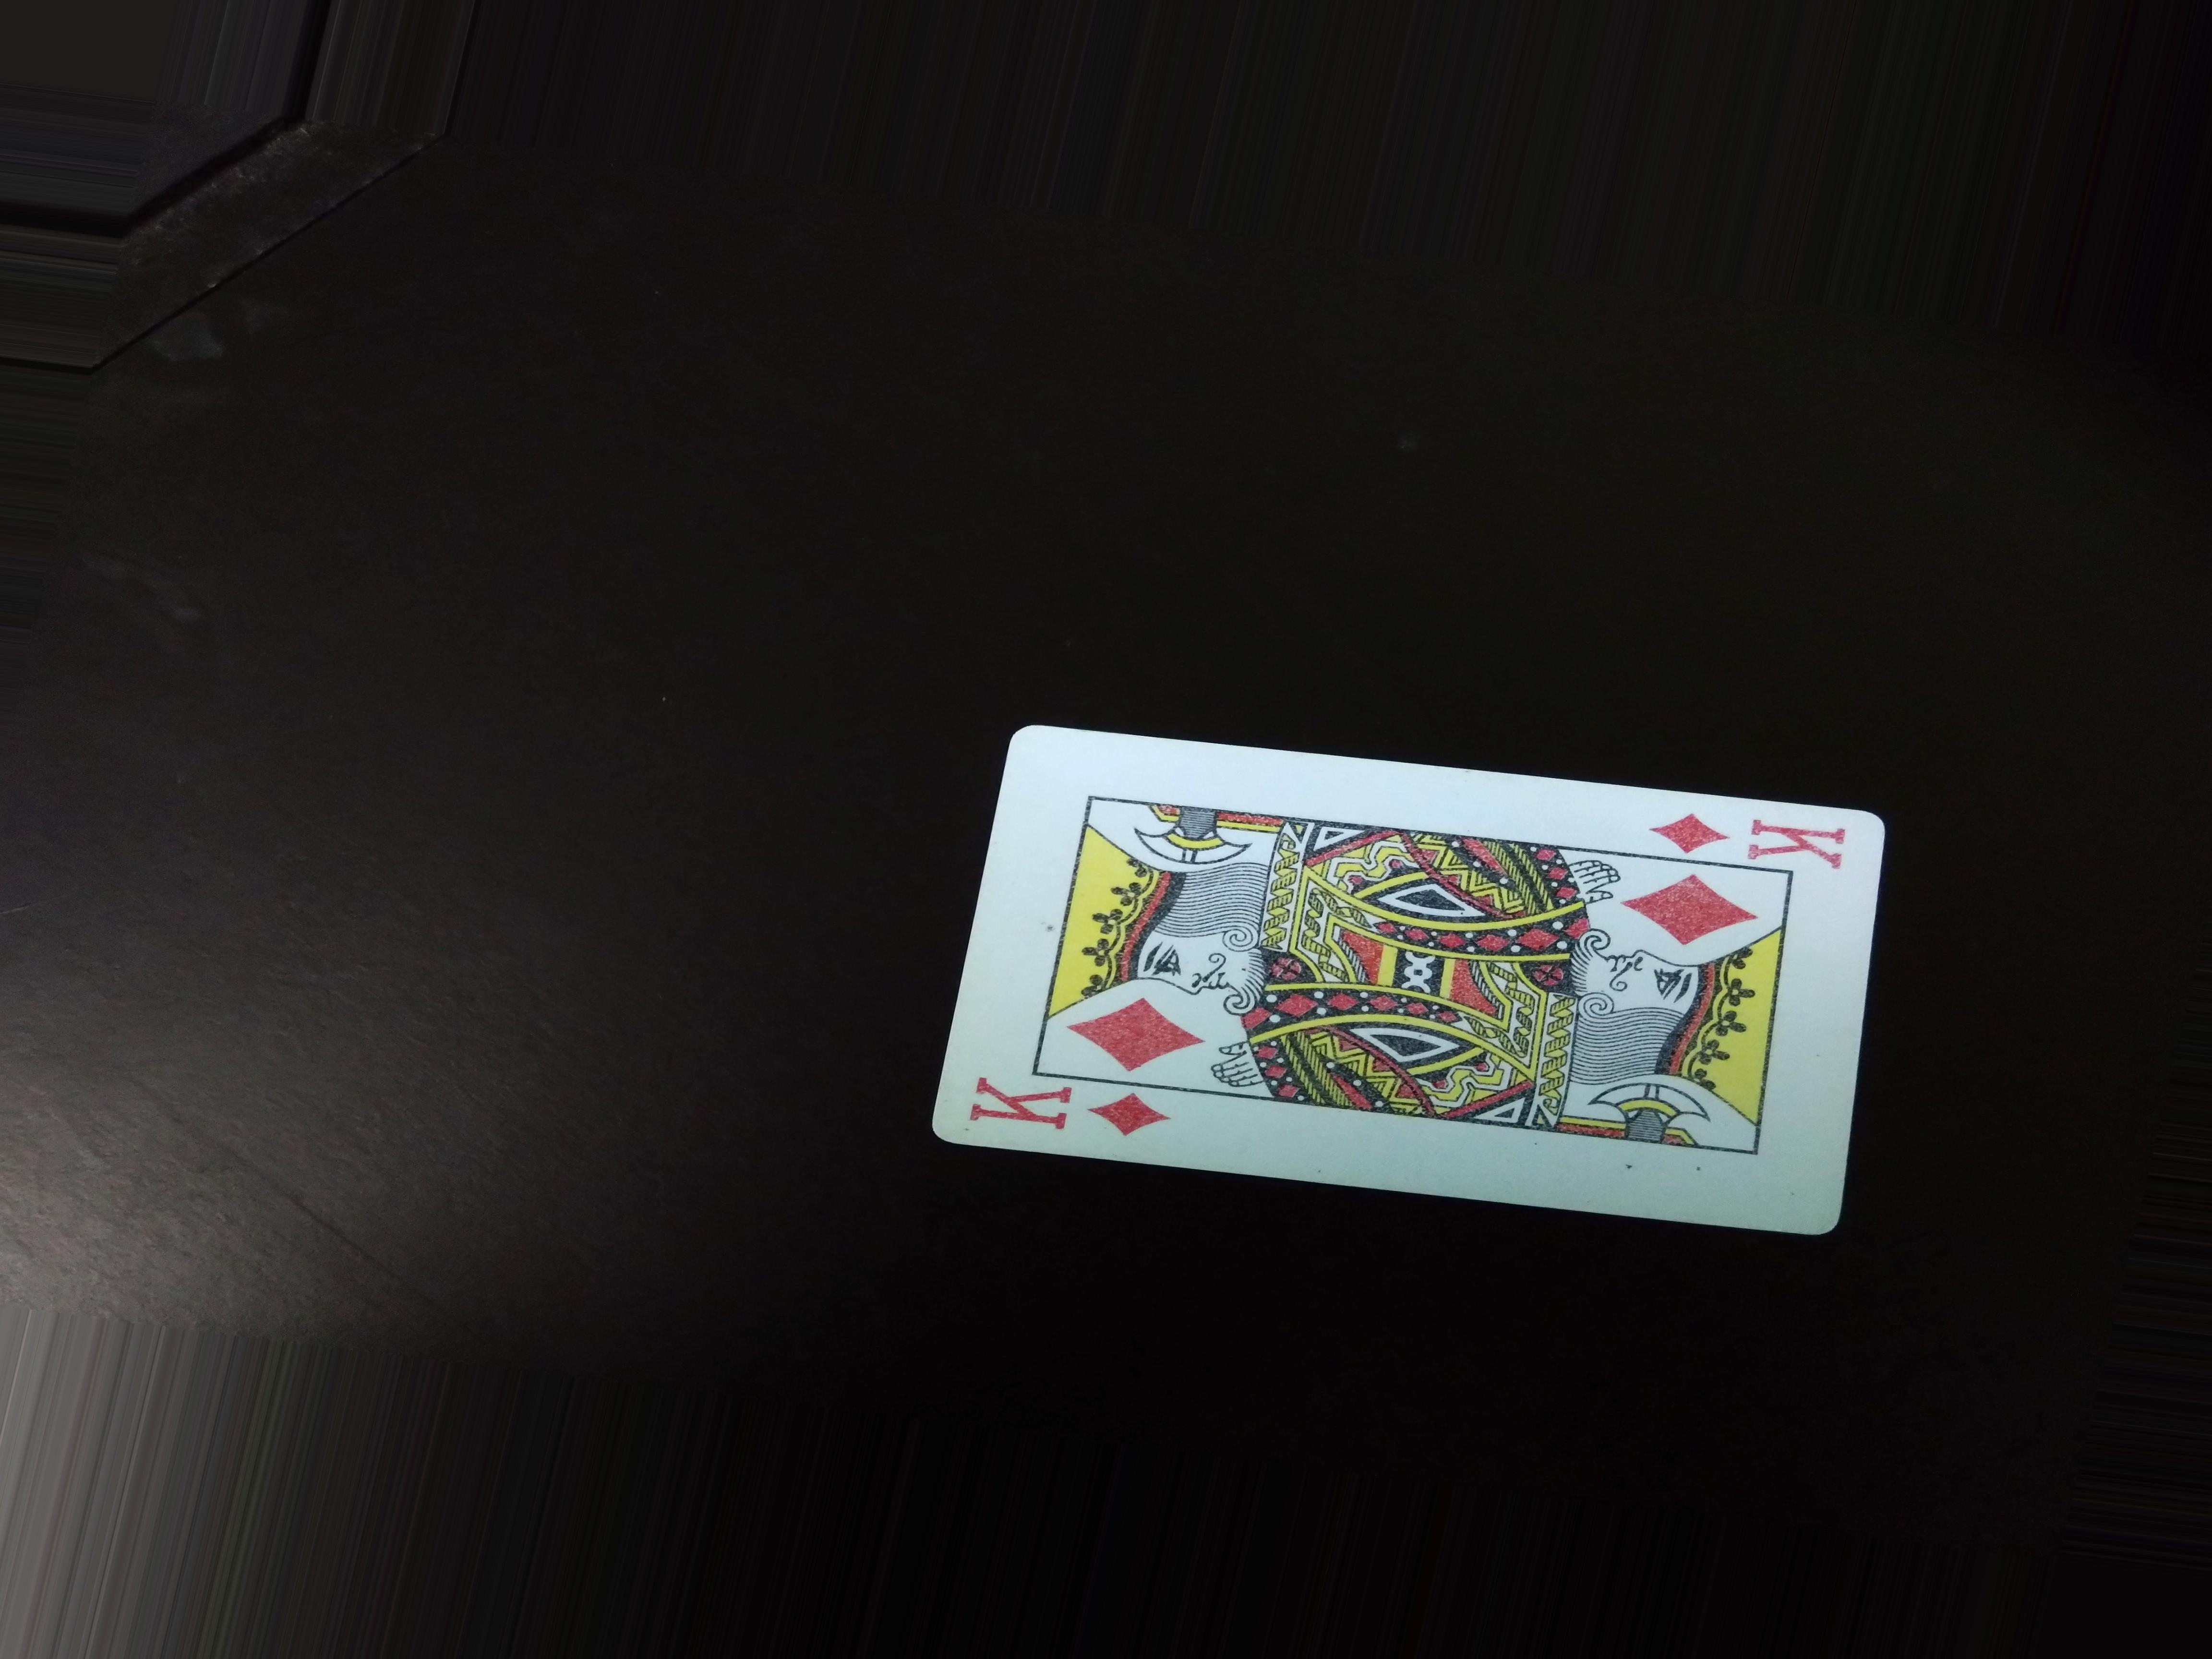KD: (953, 1082, 1176, 1131)
